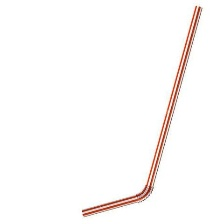drinking_straw: (75, 1, 209, 220)
